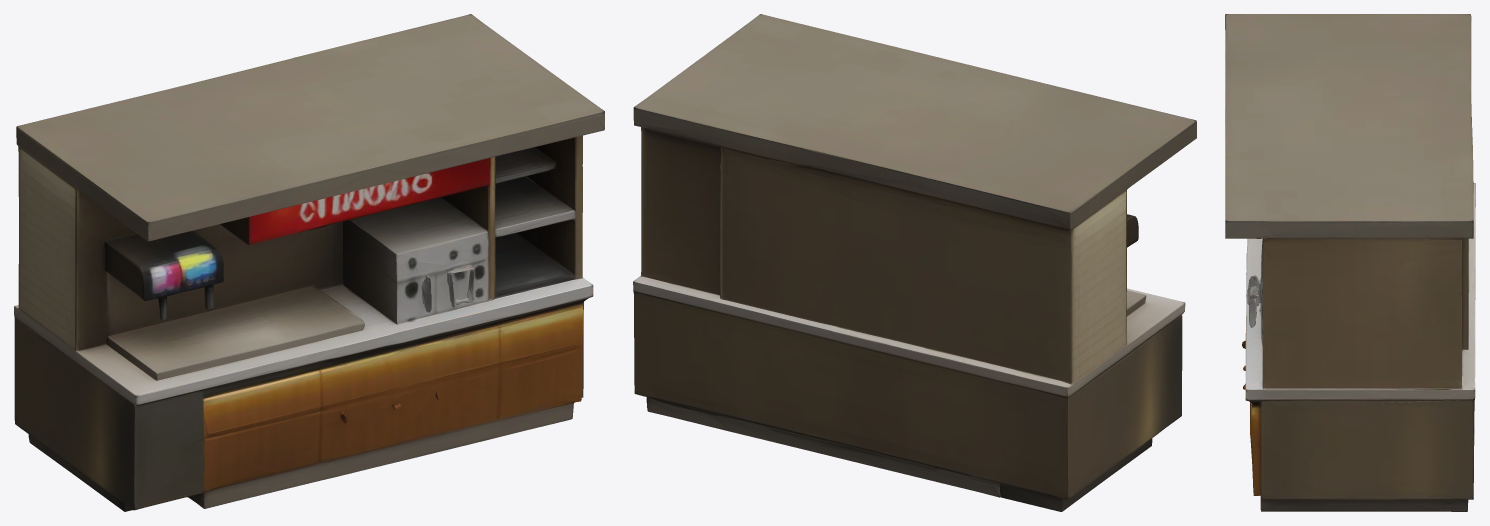
3 views of the same model, side by side, from view 1: azimuth 30°, elevation 25°; view 2: azimuth 150°, elevation 25°; view 3: azimuth 270°, elevation 25° (orthographic). The views are drawn at different scales.
Parts seen in each view (by area): view 1: geometry_0; view 2: geometry_0; view 3: geometry_0.
Boxes of the visible parts, x1=… form: geometry_0: x1=14, y1=14, x2=604, y2=511; geometry_0: x1=633, y1=14, x2=1196, y2=511; geometry_0: x1=1225, y1=14, x2=1475, y2=511.
Size of the model in its own units: 0.9999 by 0.6665 by 0.5103.
1 material, 1 textured.
